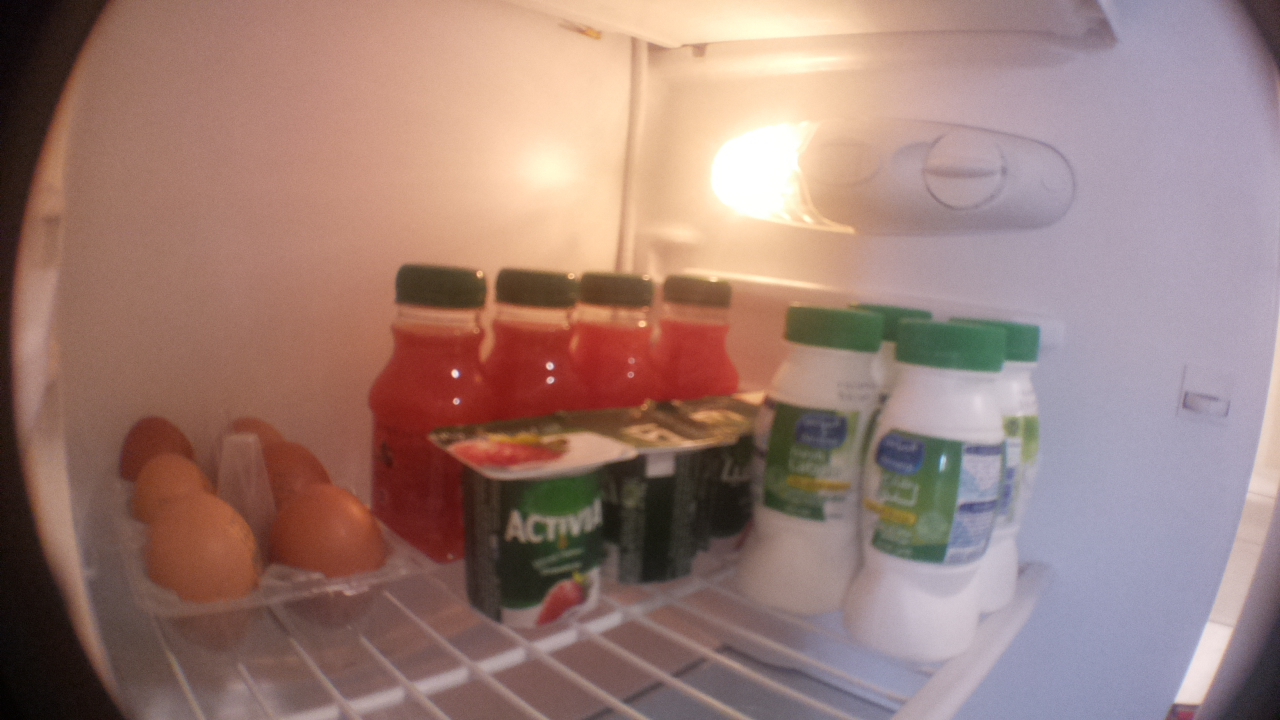egg: (264, 482, 397, 647), (137, 491, 261, 649), (256, 439, 344, 492), (125, 454, 215, 500), (111, 413, 200, 459), (208, 415, 291, 443)
juice: (370, 266, 491, 574), (487, 263, 586, 421), (575, 265, 661, 417), (661, 271, 743, 405)
laban: (841, 319, 1020, 666), (747, 304, 893, 614), (999, 319, 1055, 614)
yoghurt: (422, 411, 637, 634), (595, 401, 733, 583)
